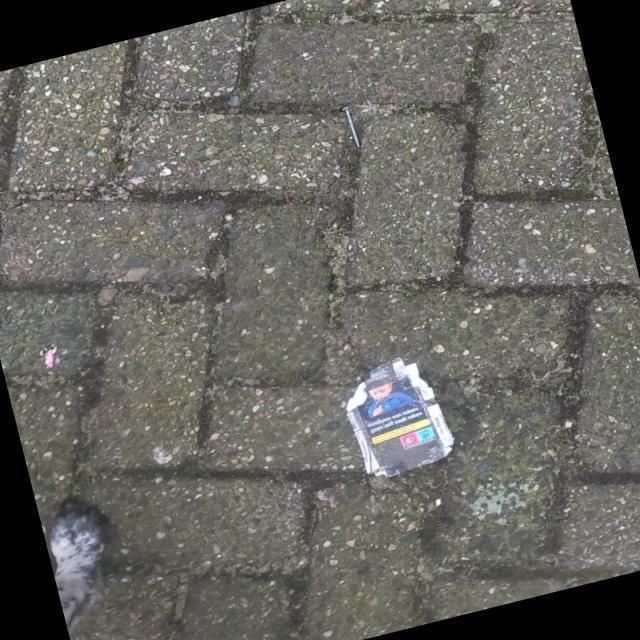Paper: (342, 355, 456, 484)
